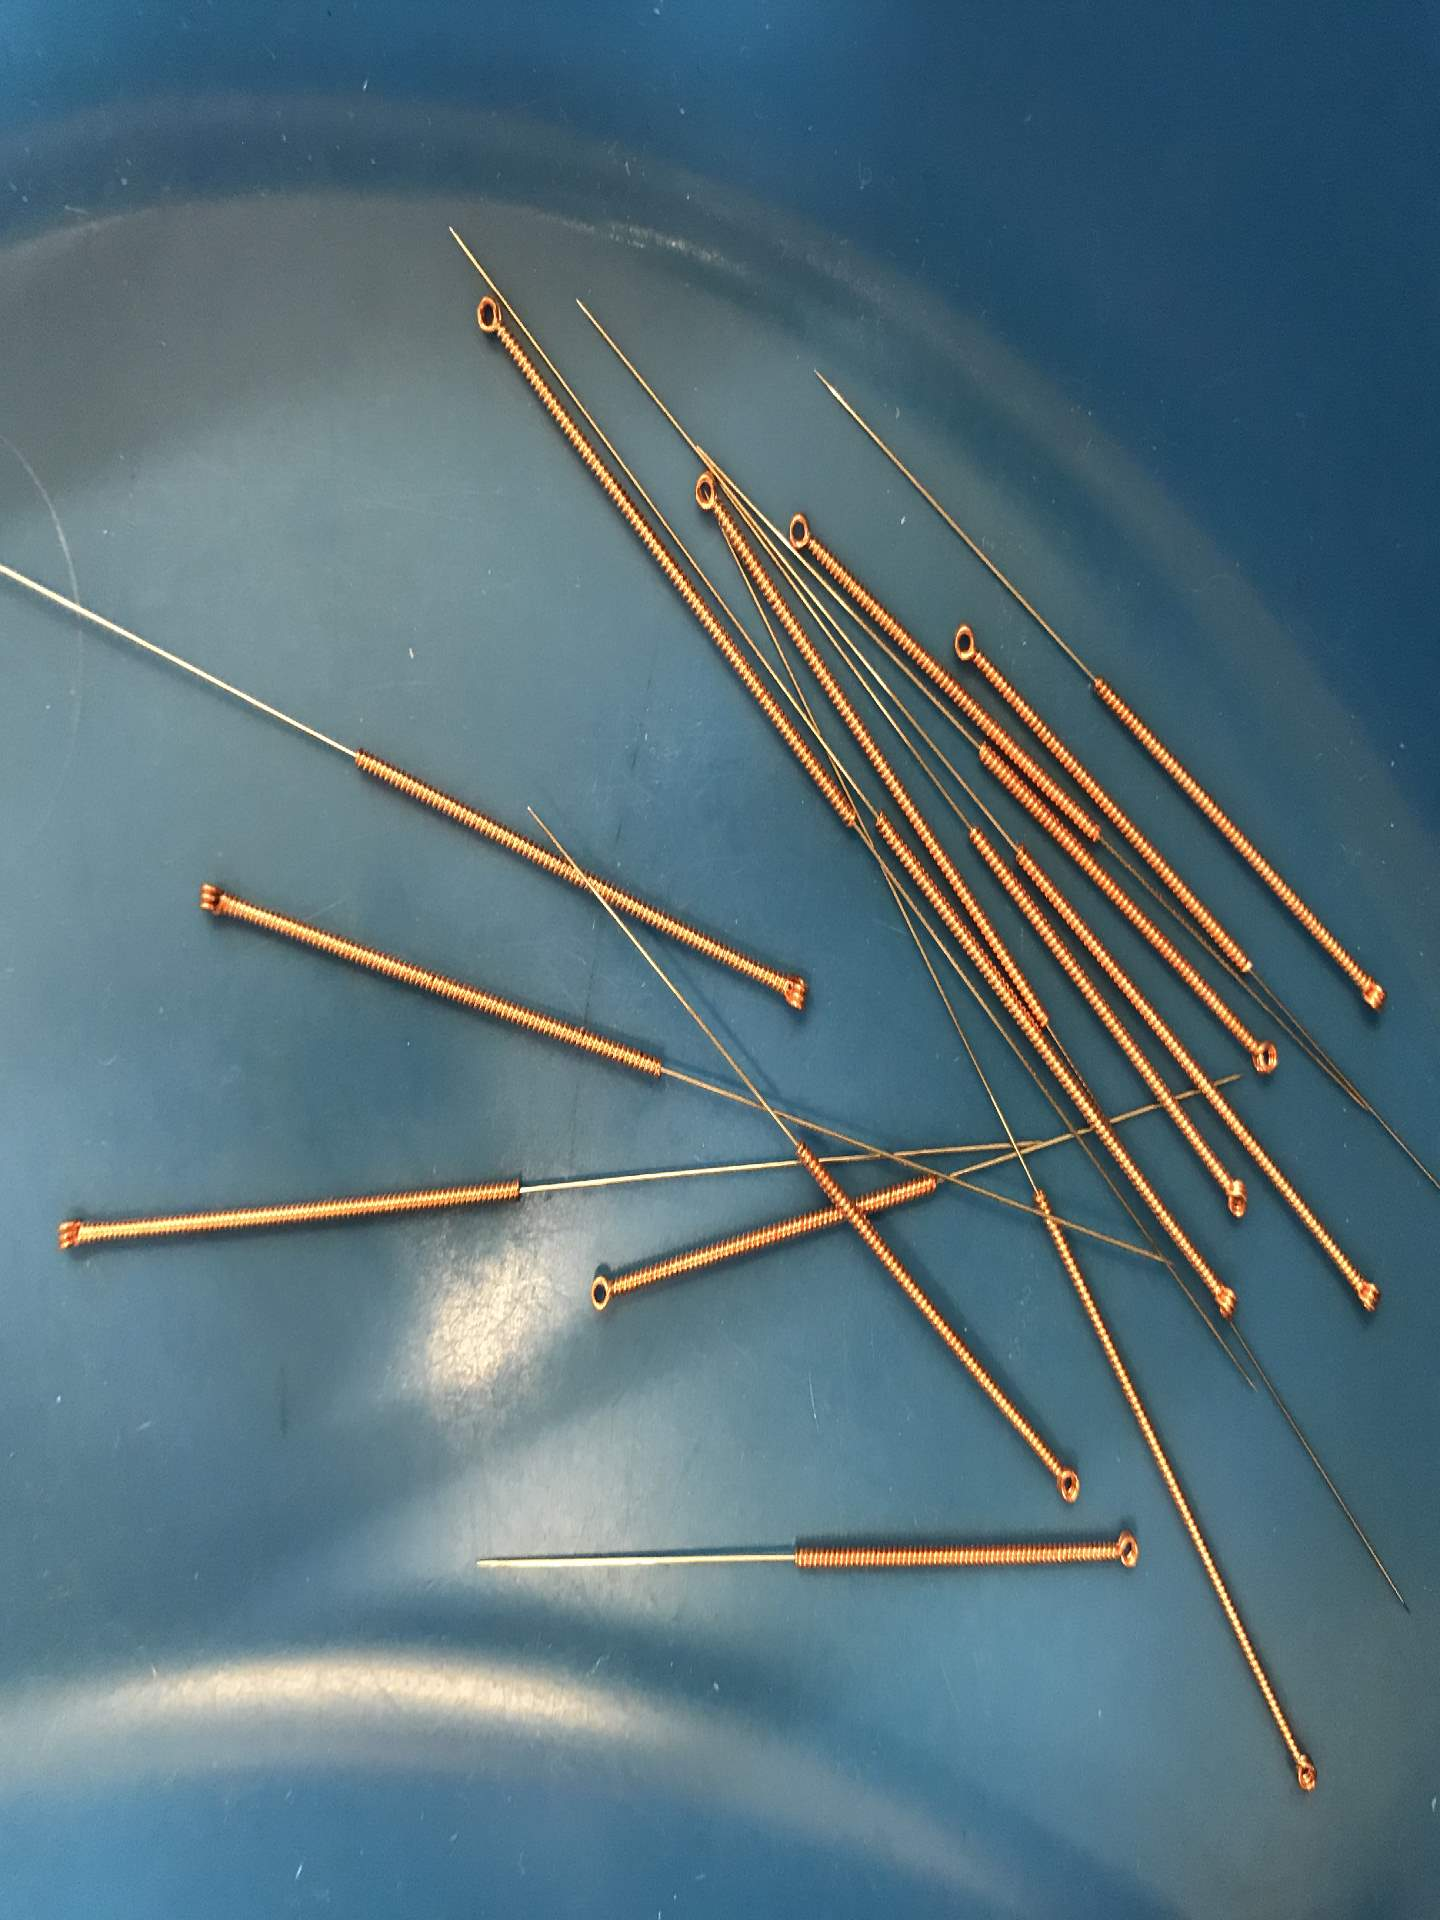needle: (35, 1202, 104, 1265), (185, 866, 248, 936), (1342, 955, 1402, 1027), (1091, 1519, 1156, 1584), (1231, 1027, 1296, 1092), (676, 460, 737, 528), (572, 1259, 634, 1324), (452, 290, 519, 351), (765, 955, 818, 1030), (1337, 1256, 1392, 1327), (777, 500, 832, 568), (1036, 1448, 1089, 1513), (1196, 1267, 1249, 1332), (1209, 1166, 1258, 1231), (1278, 1742, 1328, 1804), (945, 615, 989, 677)
